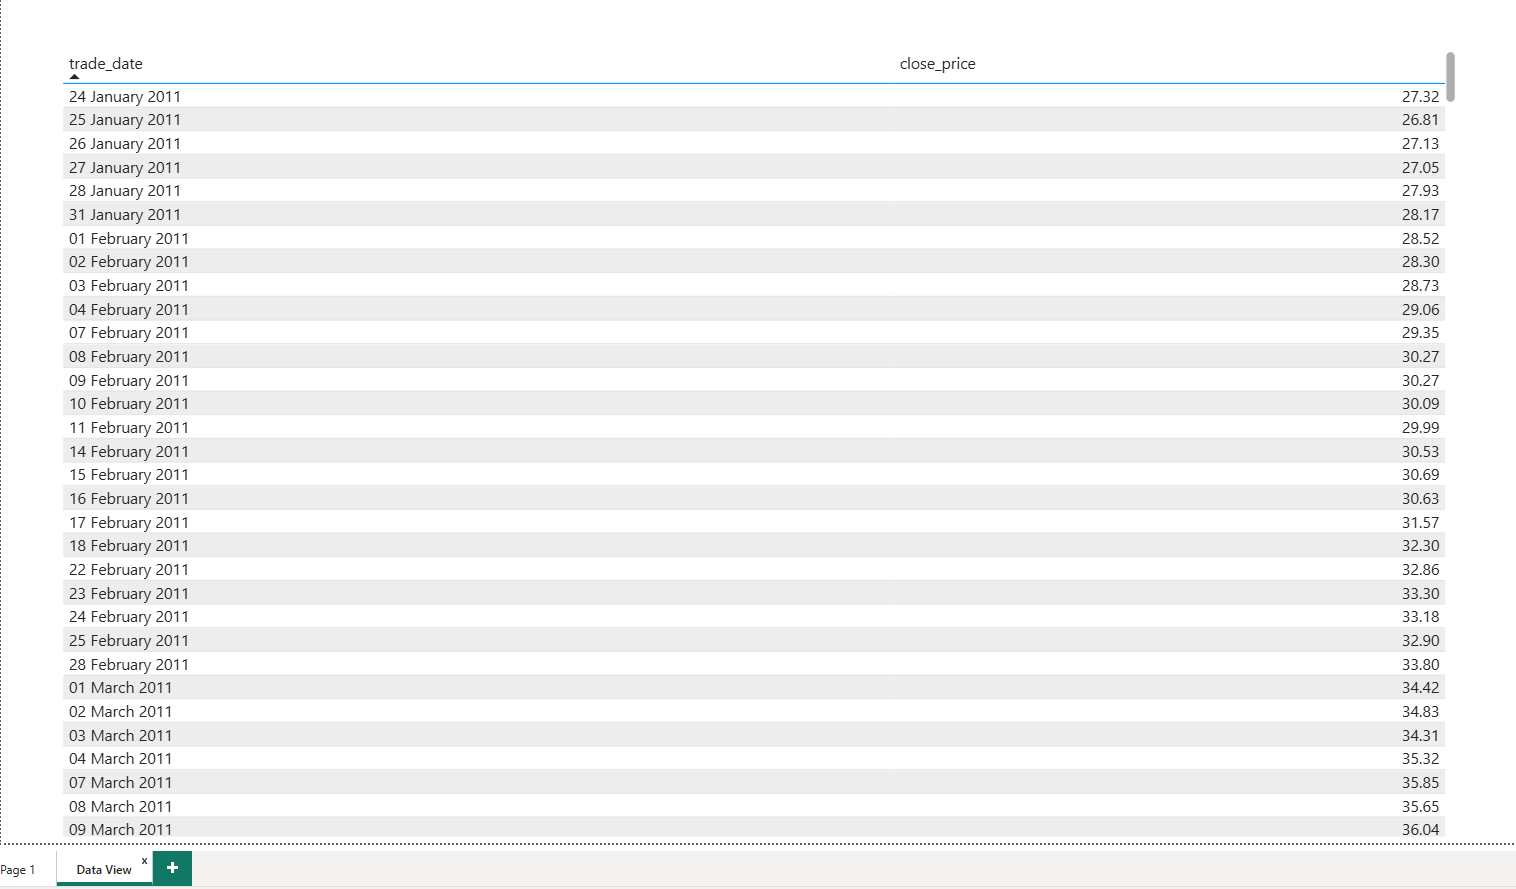

This screenshot's page, from the dashboard's own definition file:
{"tool":"powerbi","page":{"name":"Data View","canvas":[1280,720],"ordinal":1},"visuals":[{"type":"tableEx","fields":{"Values":["silver_market_analysis silver_prices.trade_date","silver_market_analysis silver_prices.close_price"]},"box":[46.9,45.9,1188.2,674.4],"z":3001}]}

Visuals, with their boxes in screenshot pixels (x1, y1, x2, y2):
tableEx - silver_market_analysis silver_prices.trade_date x silver_market_analysis silver_prices.close_price: bbox(88, 79, 1427, 839)
